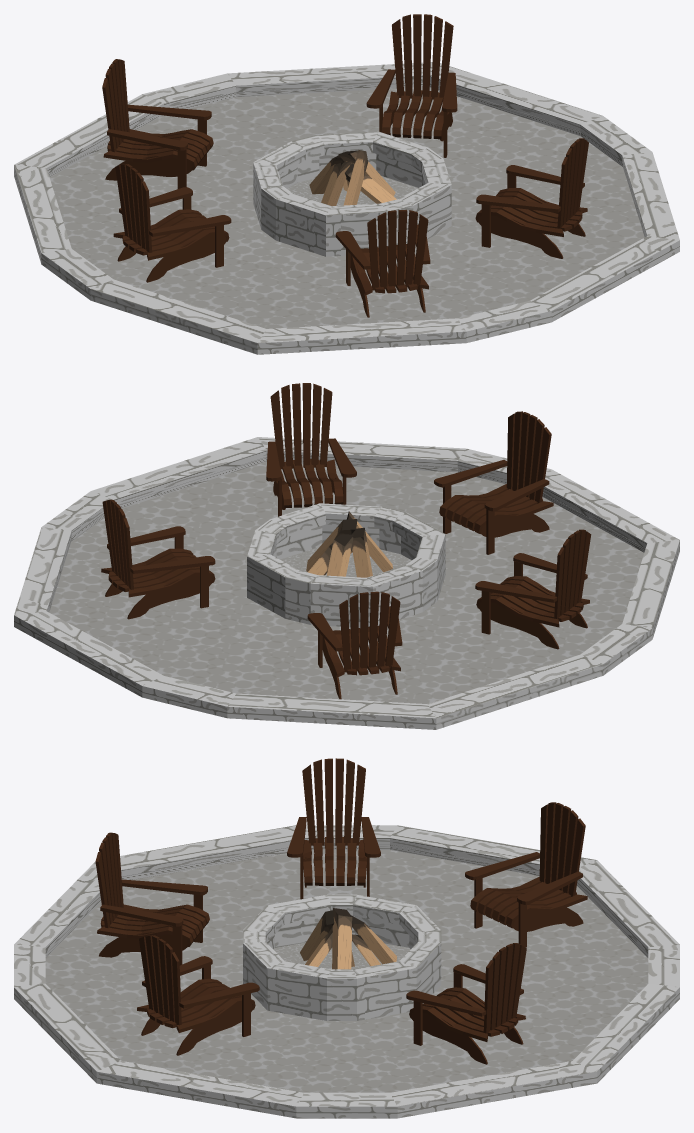
Rendered from fire pit.fbx.
3 renders of one model, top to bottom at view 1: azimuth 30°, elevation 25°; view 2: azimuth 150°, elevation 25°; view 3: azimuth 270°, elevation 25°, orthographic. The views are drawn at different scales.
Visible parts, largest first — view 1: Cube.007, Cube, Cube.010, Cube.009, Cube.011, Cube.008, Cube.012, Cube.003, Cube.005, Cube.004, Cube.002; view 2: Cube.007, Cube, Cube.012, Cube.011, Cube.009, Cube.010, Cube.008, Cube.002, Cube.005, Cube.001, Cube.003; view 3: Cube.007, Cube, Cube.008, Cube.009, Cube.010, Cube.011, Cube.012, Cube.001, Cube.002, Cube.003.
Boxes of the visible parts, box(x1,y1,x2,y2) form: Cube.007: box(14, 62, 679, 354); Cube: box(253, 131, 451, 256); Cube.010: box(366, 14, 457, 157); Cube.009: box(113, 164, 231, 282); Cube.011: box(475, 138, 588, 258); Cube.008: box(102, 59, 213, 188); Cube.012: box(335, 209, 430, 317); Cube.003: box(343, 150, 367, 205); Cube.005: box(321, 161, 351, 205); Cube.004: box(345, 163, 396, 203); Cube.002: box(309, 155, 344, 194); Cube.007: box(14, 437, 679, 729); Cube: box(247, 503, 445, 627); Cube.012: box(434, 411, 553, 554); Cube.011: box(266, 383, 356, 516); Cube.009: box(475, 529, 591, 649); Cube.010: box(101, 499, 215, 619); Cube.008: box(307, 591, 402, 699); Cube.002: box(327, 534, 353, 576); Cube.005: box(352, 527, 372, 577); Cube.001: box(306, 519, 357, 571); Cube.003: box(346, 511, 392, 572); Cube.007: box(14, 825, 679, 1118); Cube: box(243, 894, 441, 1020); Cube.008: box(465, 802, 587, 947); Cube.009: box(287, 758, 380, 899); Cube.010: box(406, 943, 526, 1064); Cube.011: box(137, 935, 259, 1055); Cube.012: box(95, 832, 209, 965); Cube.001: box(332, 908, 352, 969); Cube.002: box(351, 915, 396, 964); Cube.003: box(300, 910, 334, 960).
Bounding box in the file's own units: 850 × 153 × 850.
